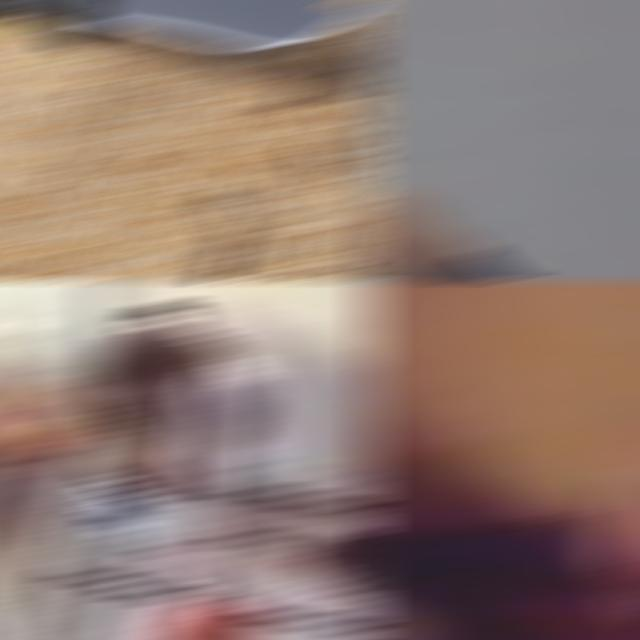Knife_Handle: (360, 392, 640, 638), (101, 362, 294, 638), (360, 59, 448, 280)
